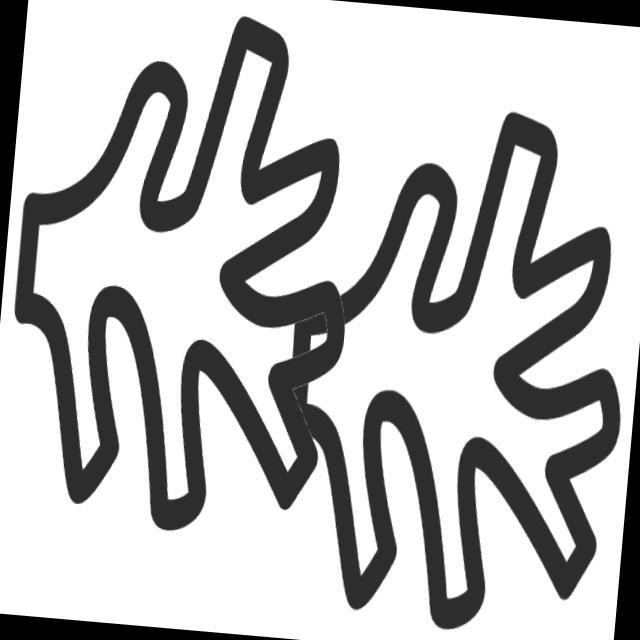coral: (261, 70, 640, 640), (1, 1, 378, 565)
